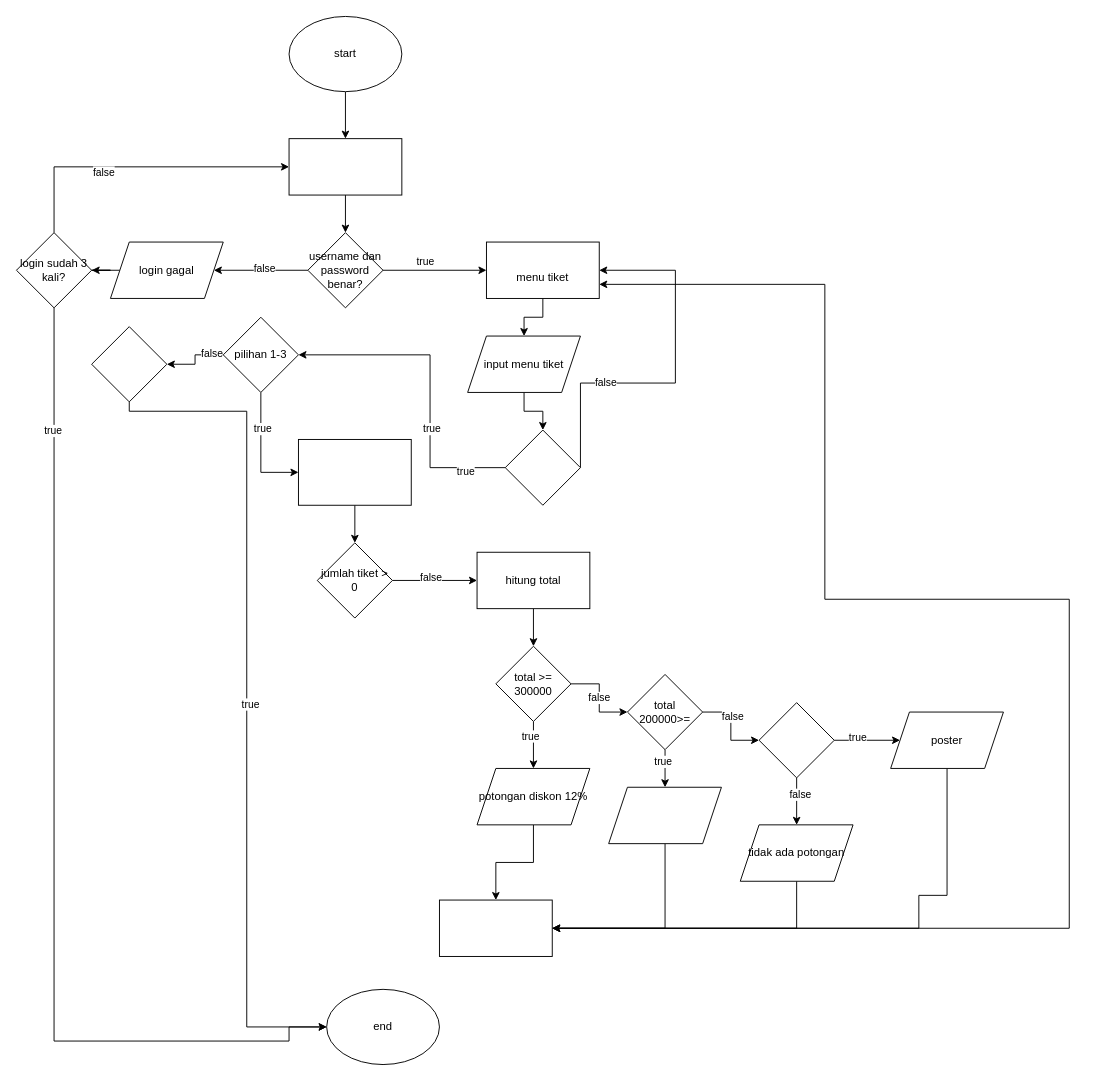
Image size: 1093x1081. Some labels were removed from this diagram. Here are the shapes that lost their labels. From the top down, the box of each, then its label:
(288, 138, 402, 195): login masukkan username dan password
(91, 326, 167, 402): pilihan 4
(298, 439, 411, 505): input jumlah tiket
(504, 429, 580, 505): pilihan valid?
(758, 702, 834, 778): potongan diskon >= 150000
(608, 786, 721, 844): potongan diskon 8%
(439, 899, 552, 956): tampilkan struk
